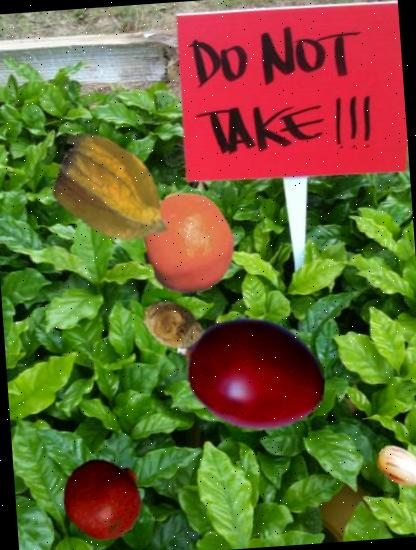Clementine: (132, 188, 242, 298)
Ginger: (132, 281, 240, 388)
Pepino: (373, 438, 416, 496)
Physalis: (49, 126, 183, 260)
Pomegranate: (60, 453, 148, 542)
Tamarillo: (170, 294, 330, 453)
